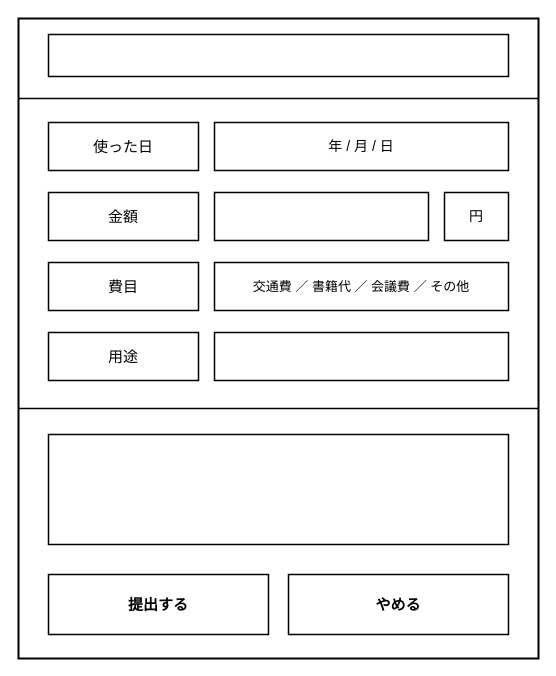
This 556x676 diagram has some shape labels left out. The centre of each missing label's shape, as x and y in pixels:
"半角の数字" belongs at (321,216).
"差し戻しの理由 （差し戻された申請を書き直すときだけ表示する） 費目が会議費に見えません。交通費として出し直してください。" belongs at (278,489).
"経費を申請する" belongs at (278,55).
